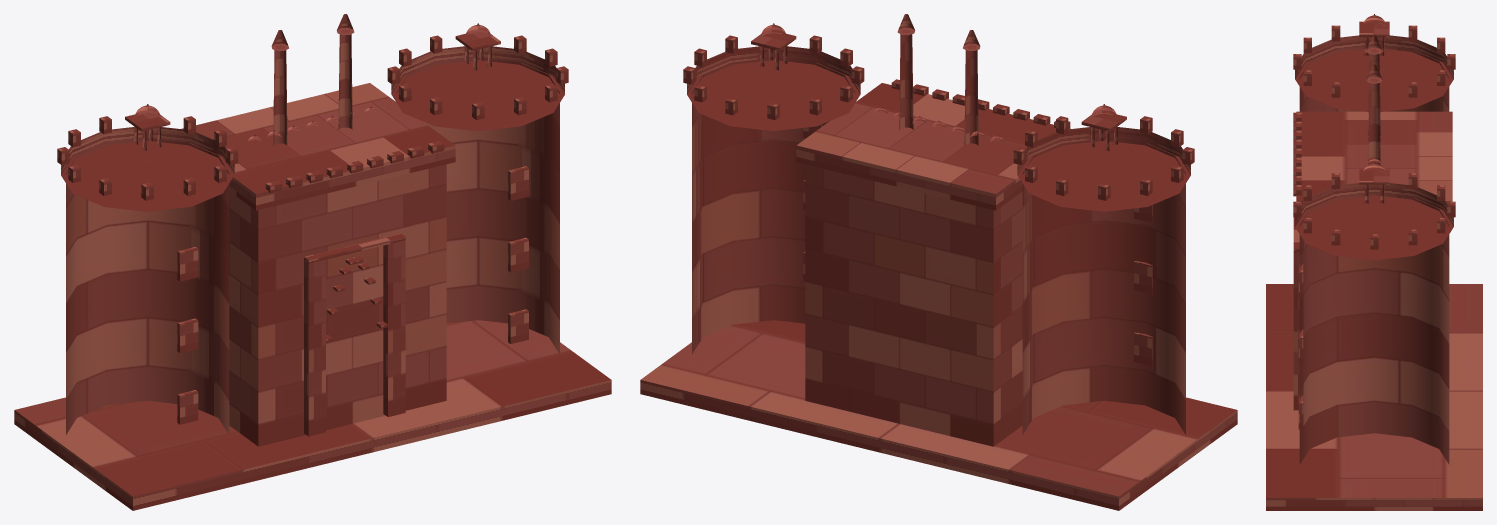
Rendered from red-fort.glb.
3 renders of one model, left to right at view 1: azimuth 30°, elevation 25°; view 2: azimuth 150°, elevation 25°; view 3: azimuth 270°, elevation 25°, orthographic. The views are drawn at different scales.
Parts seen in each view (by area): view 1: red-fort; view 2: red-fort; view 3: red-fort.
Part boxes in pixels (<box>): red-fort: <box>14,14,611,510</box>; red-fort: <box>640,14,1237,510</box>; red-fort: <box>1266,14,1482,510</box>.
Size of the model in its own units: 42.5 by 32.4 by 18.
Materials: 1 (1 with a texture image).
